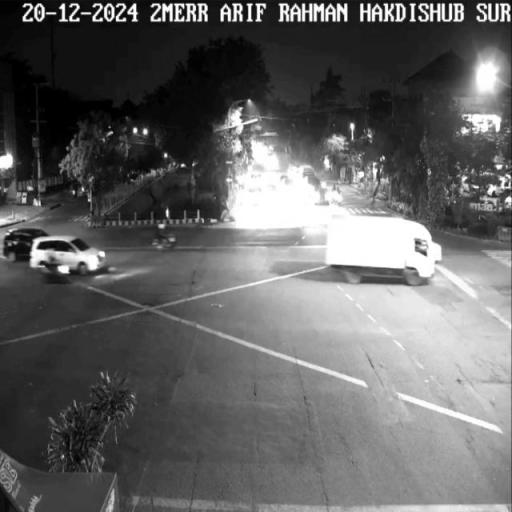car: (32, 236, 104, 270), (4, 228, 30, 260)
truck: (320, 214, 445, 287)
